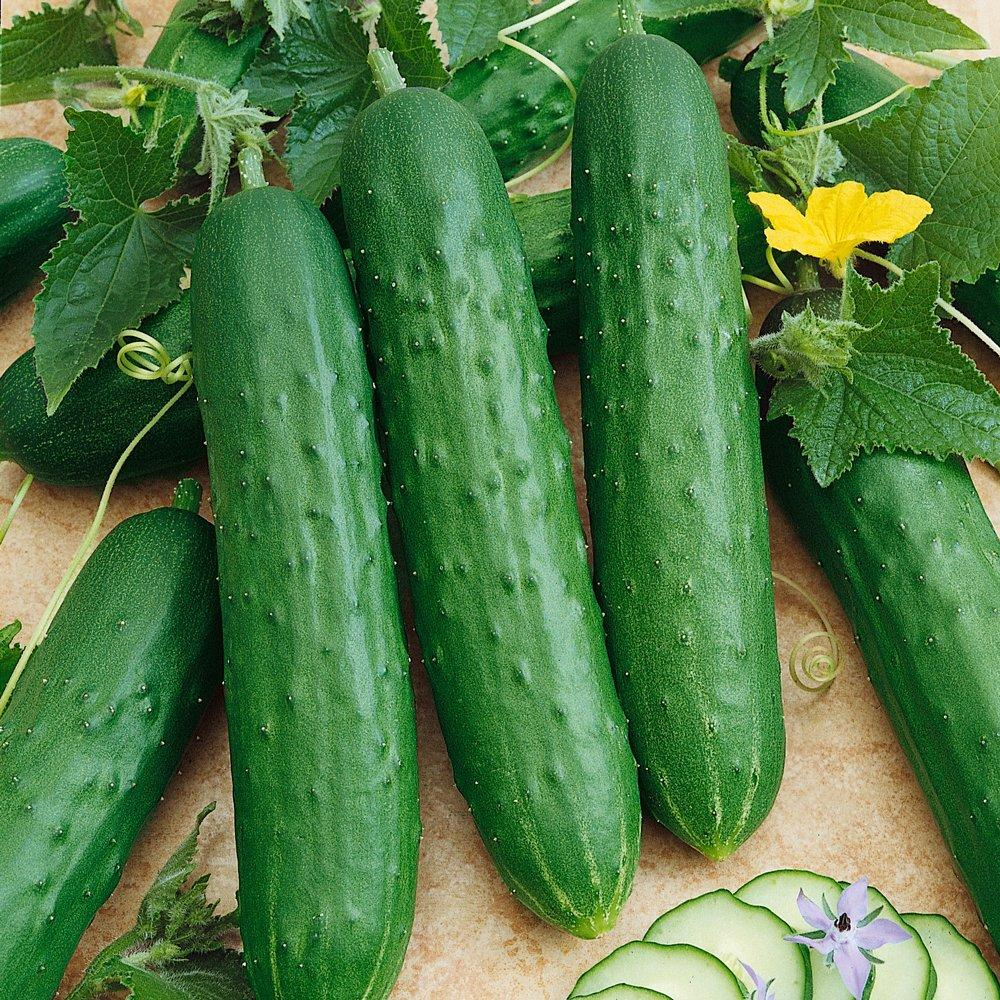cucumber: (337, 85, 642, 939), (188, 184, 422, 998), (569, 31, 787, 861), (752, 287, 999, 954), (0, 478, 222, 998), (0, 286, 205, 488)
